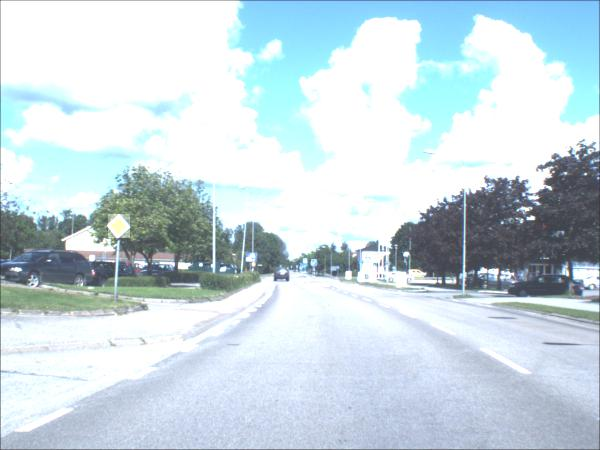50_SIGN: (252, 263, 257, 269)
PASS_RIGHT_SIDE: (311, 261, 318, 269), (303, 265, 309, 269), (299, 268, 303, 272)
PEDESTRIAN_CROSSING: (250, 255, 256, 261), (365, 259, 371, 265), (303, 259, 308, 265), (299, 265, 303, 268)
PRIORITY_ROAD: (108, 215, 131, 240)
